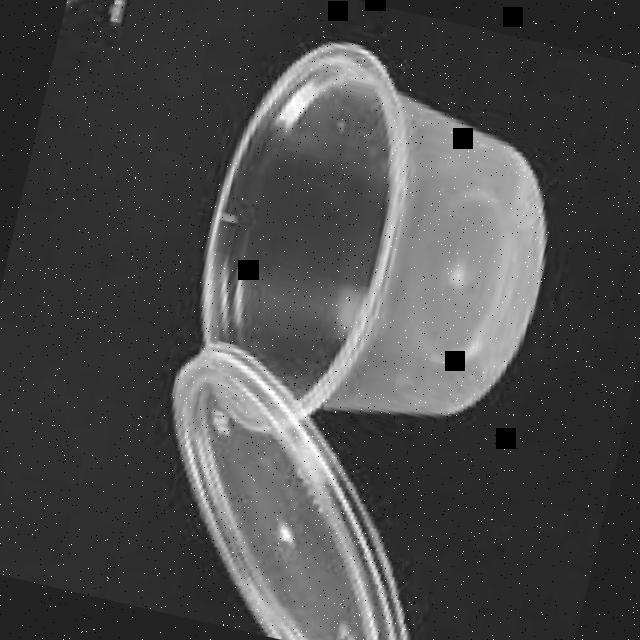plastic_box: (122, 25, 581, 640)
